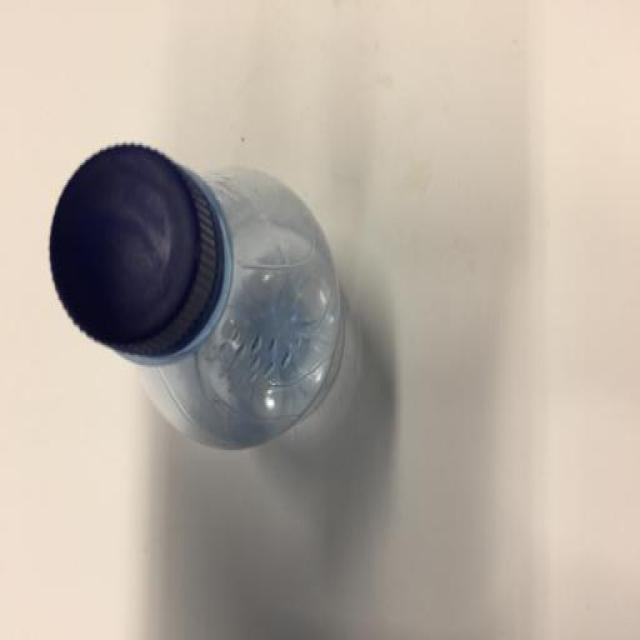Plastic: (49, 143, 355, 452)
